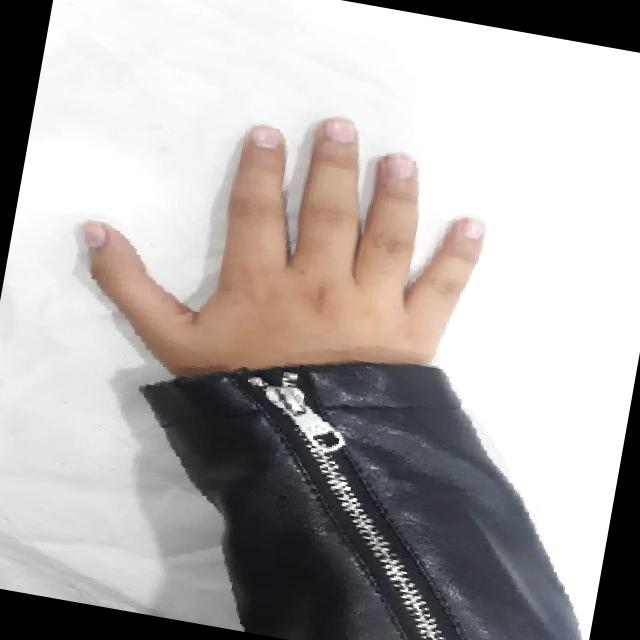Nail: (378, 153, 415, 179), (321, 117, 357, 142), (248, 124, 282, 148), (82, 220, 105, 246), (459, 217, 484, 238)
